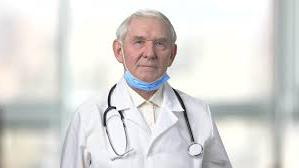mask_weared_incorrect: (122, 34, 170, 91)
